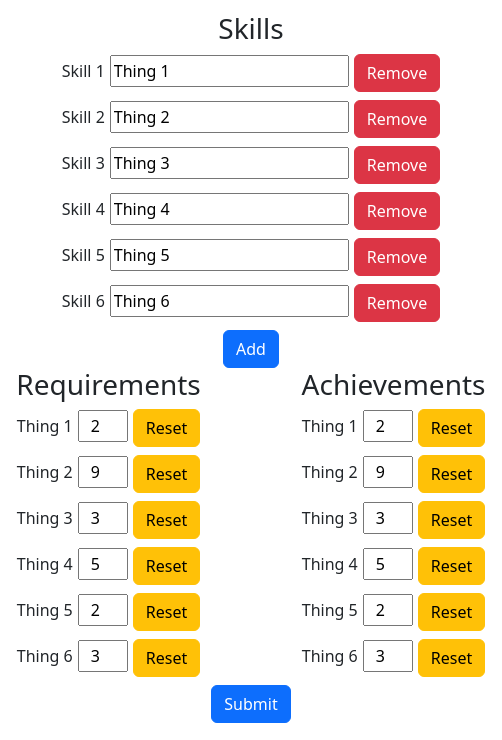
Testing App() Component › should reset achievements
Click the 1st button with test id "resetAchievement-button".
click(452, 428)  # box 418,409 -> 485,447
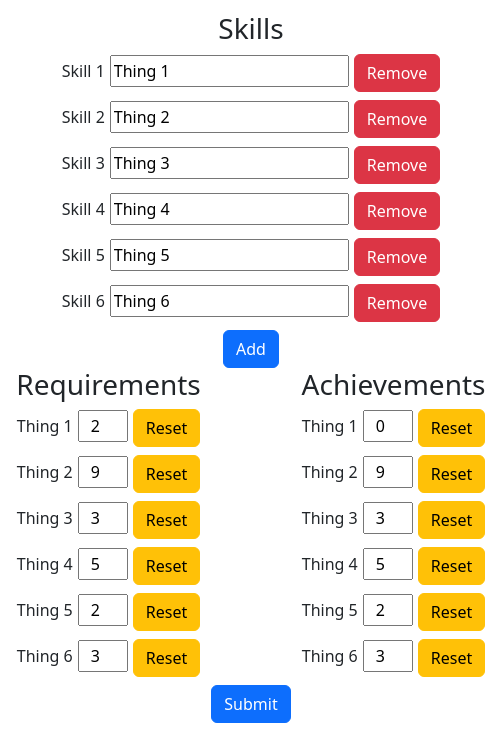
Check: the 1st number field with test id "achievement-input" holds "0", box 363,410 -> 413,442
